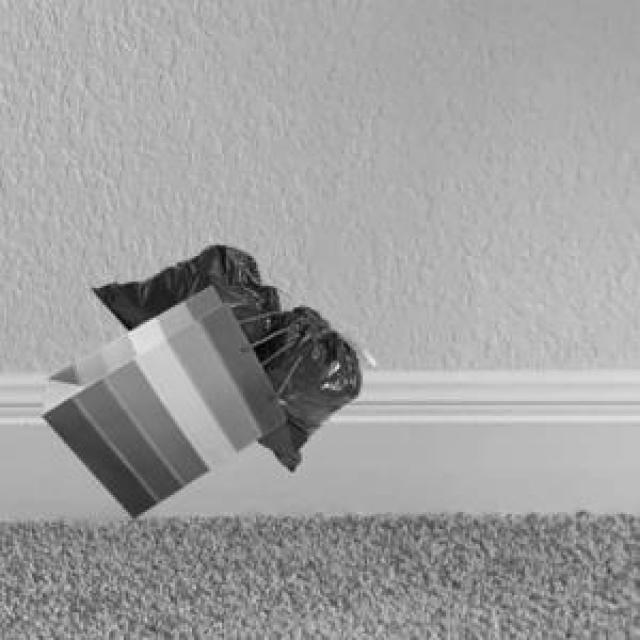miscellaneous trash: (90, 241, 371, 467)
paper: (38, 282, 282, 514)
